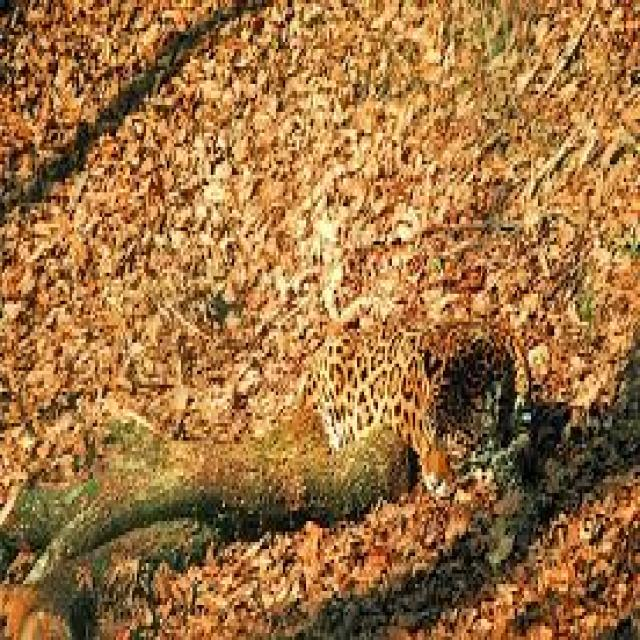Jaguar: (308, 314, 536, 503)
